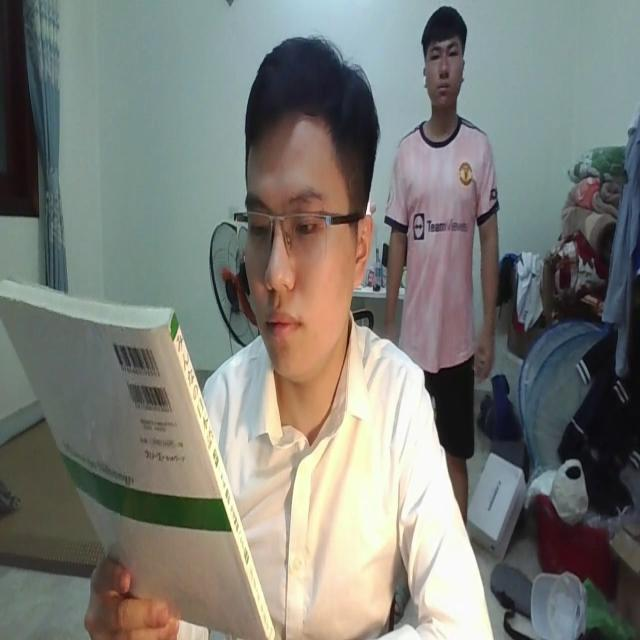book: (0, 268, 274, 640)
extra_person: (381, 6, 504, 483)
student: (192, 30, 494, 640)
